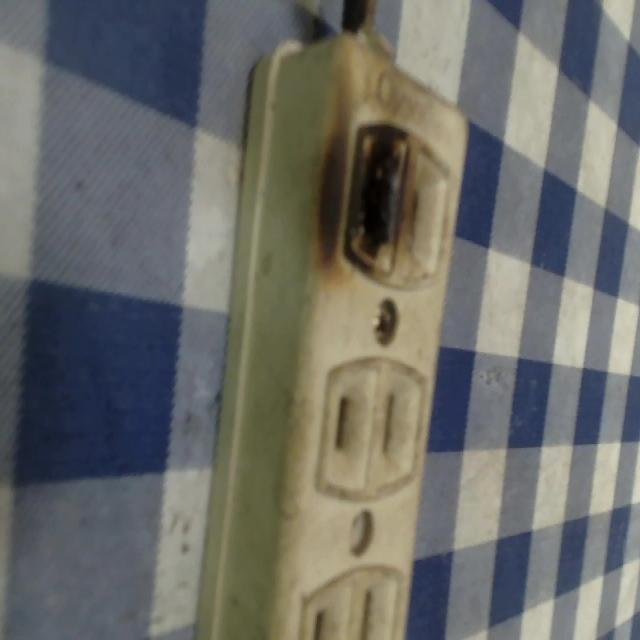-: (331, 107, 412, 284)
